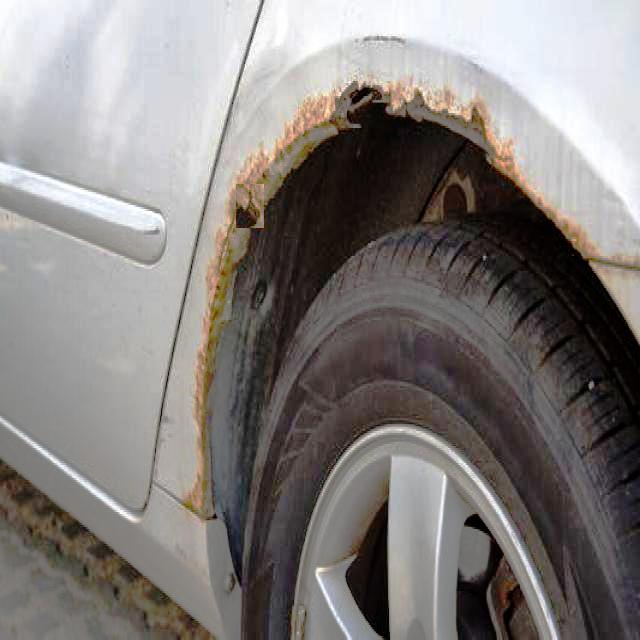Corrosion: (329, 81, 491, 152), (177, 347, 215, 518), (251, 120, 338, 194), (215, 185, 251, 336), (530, 194, 598, 259), (202, 295, 232, 361), (286, 96, 336, 134), (482, 141, 520, 186), (248, 166, 282, 210)
